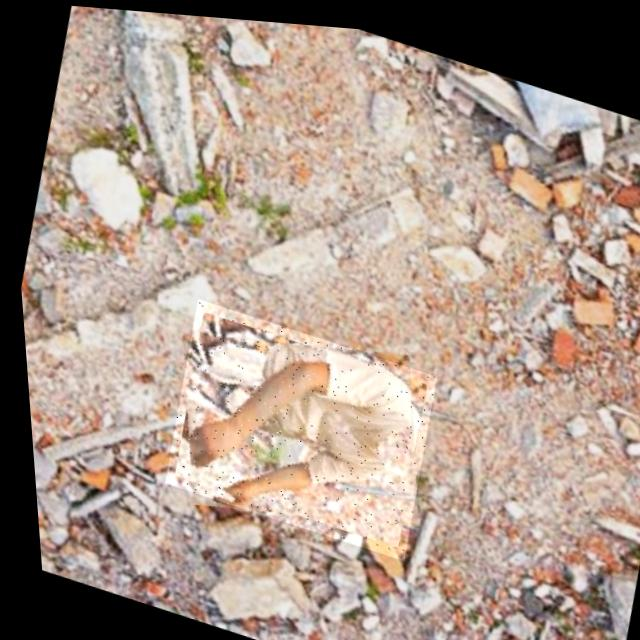Person in Rubble: (145, 292, 441, 557)
